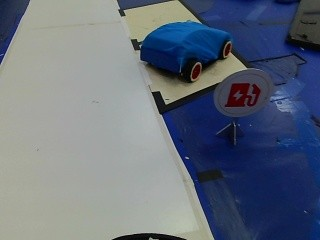battery: (212, 72, 273, 119)
car: (130, 19, 237, 83)
